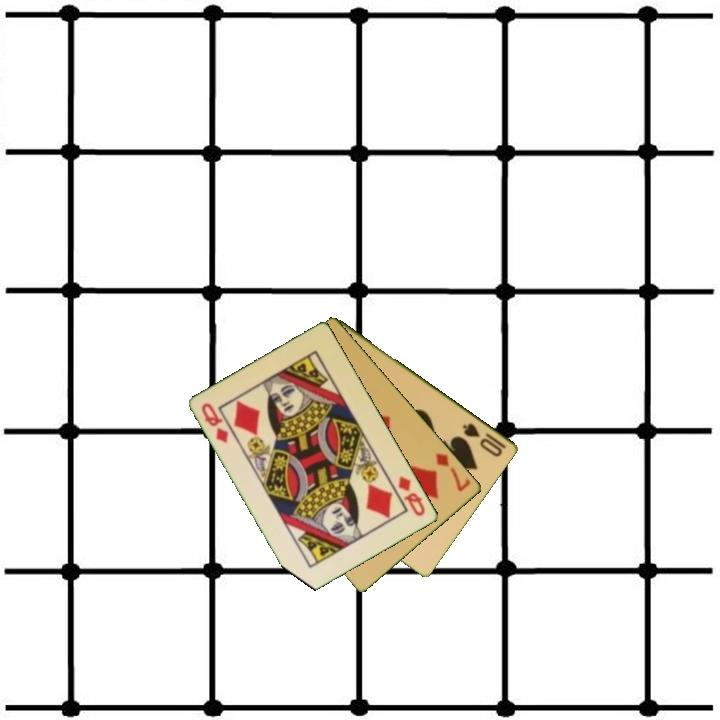10s: (459, 419, 506, 460)
7d: (432, 449, 474, 495)
Qd: (198, 399, 232, 446), (395, 472, 428, 519)
